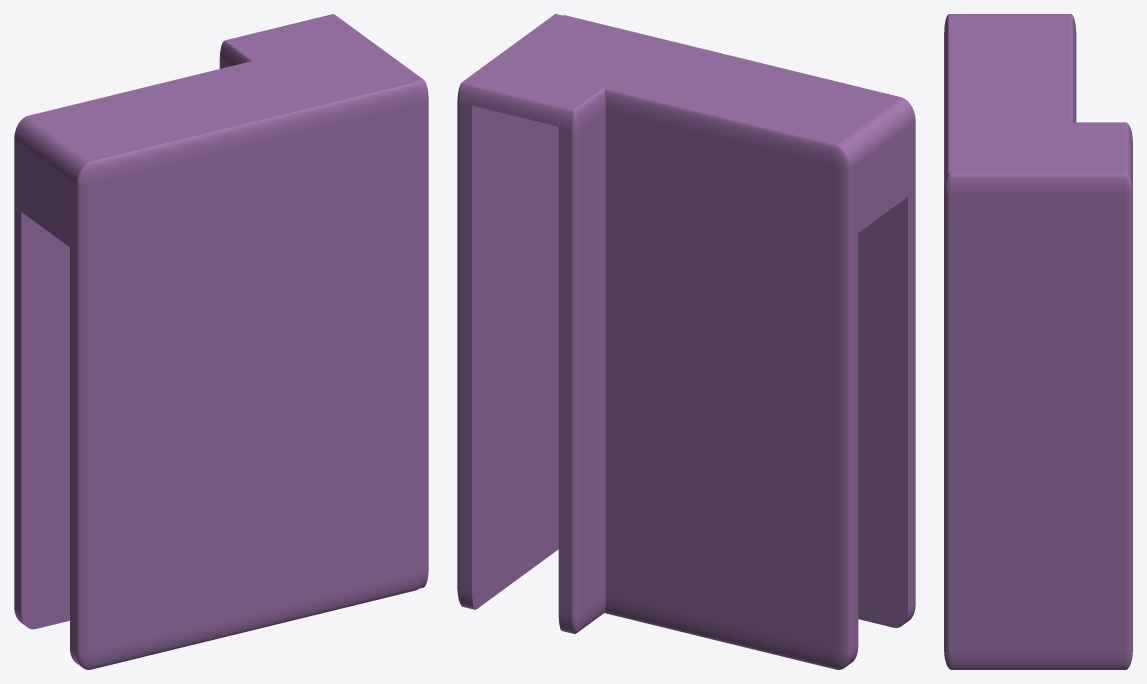
Rendered from spacer_cube_riser_90_0.glb.
3 renders of one model, left to right at view 1: azimuth 30°, elevation 25°; view 2: azimuth 150°, elevation 25°; view 3: azimuth 270°, elevation 25°, orthographic. The views are drawn at different scales.
Parts seen in each view (by area): view 1: Mesh_Mesh_head_geo.001_lambert2SG.001; view 2: Mesh_Mesh_head_geo.001_lambert2SG.001; view 3: Mesh_Mesh_head_geo.001_lambert2SG.001.
Part boxes in pixels (<box>): Mesh_Mesh_head_geo.001_lambert2SG.001: <box>14,14,428,669</box>; Mesh_Mesh_head_geo.001_lambert2SG.001: <box>457,14,915,669</box>; Mesh_Mesh_head_geo.001_lambert2SG.001: <box>944,14,1132,669</box>.
Size of the model in its own units: 0.0667 by 0.0921 by 0.0318.
